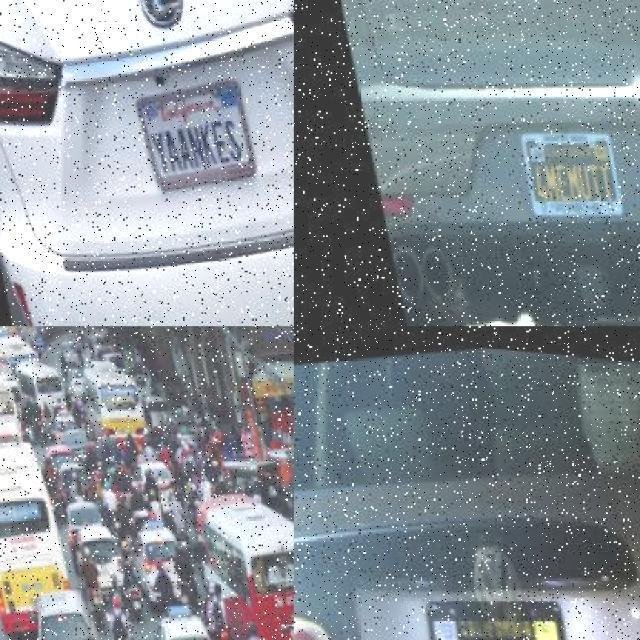LicensePlate: (128, 68, 257, 190), (515, 113, 624, 225), (416, 574, 573, 640), (93, 551, 112, 582), (281, 606, 294, 634), (28, 588, 44, 610), (158, 476, 167, 493), (184, 426, 195, 439), (161, 556, 170, 567), (77, 442, 85, 453), (0, 529, 6, 543), (155, 403, 163, 412), (0, 526, 5, 539)
